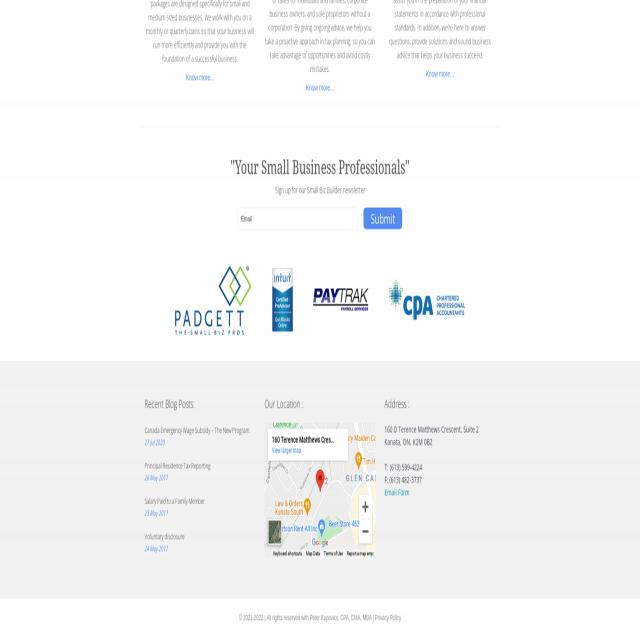button: (174, 265, 252, 334), (389, 279, 465, 321), (272, 268, 293, 332), (314, 289, 368, 310), (364, 208, 402, 229), (268, 519, 282, 545), (359, 496, 373, 520), (360, 522, 372, 546), (315, 469, 326, 495)
field: (238, 208, 358, 230)
